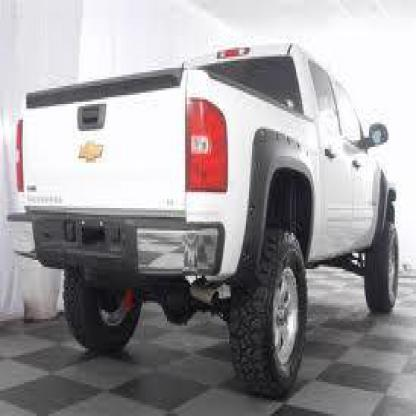Vehicle: (12, 43, 404, 405)
